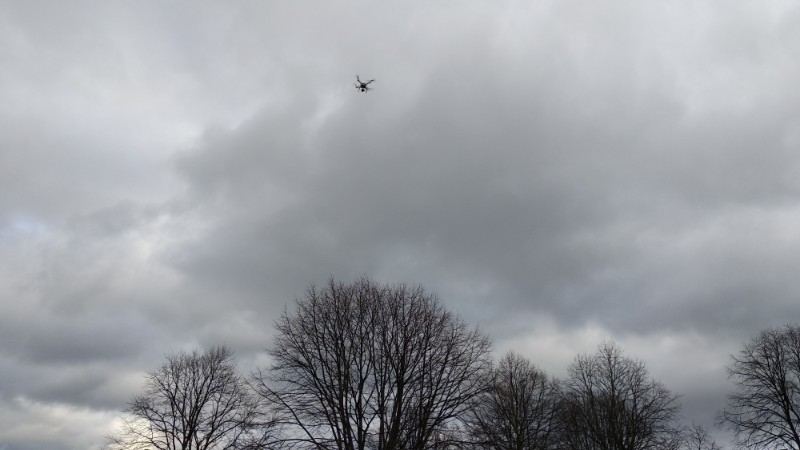drone: (354, 76, 376, 93)
